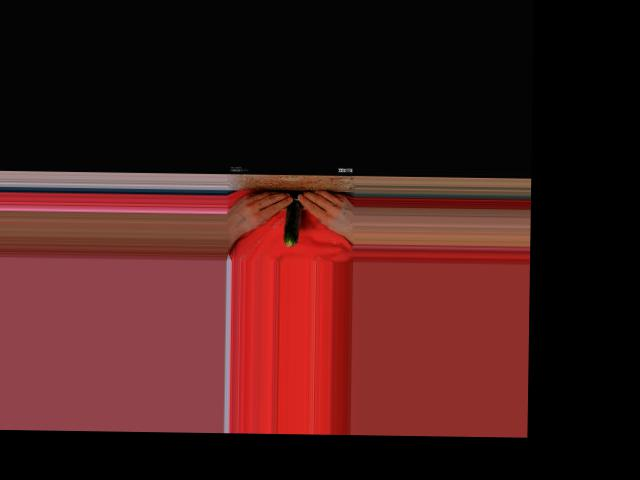cucumber: (282, 190, 301, 246)
